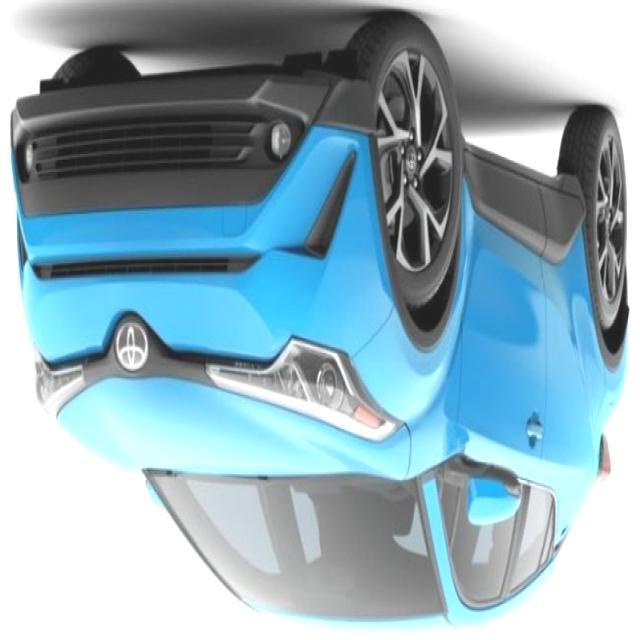blue: (21, 36, 630, 634)
